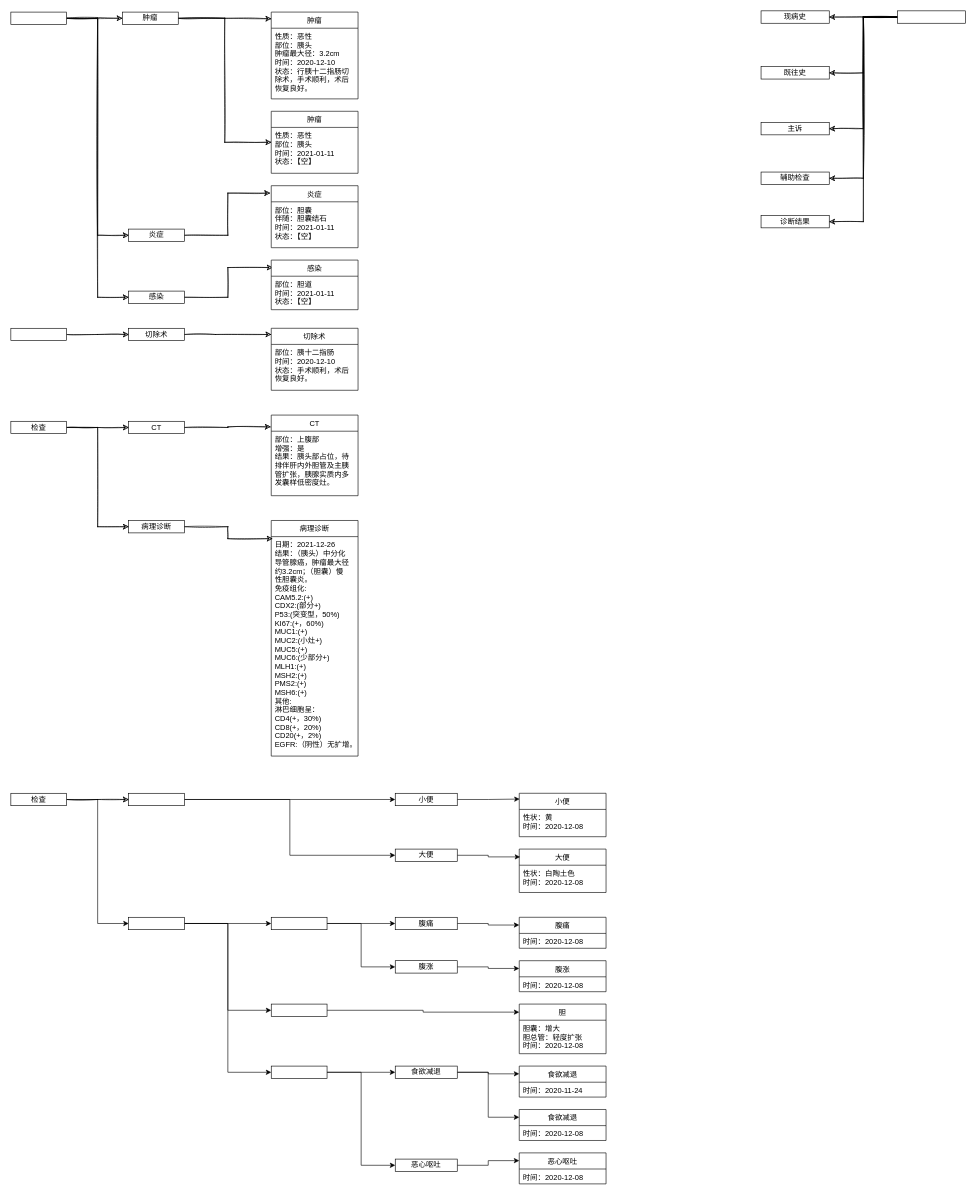
Some shapes in this 977 by 1197 pixel diagram are drawn without their labels. The centre of each missing label's shape, as x and y in pixels:
"患者A" belongs at pixel 931 16.
"手术" belongs at pixel 38 334.
"排泄物" belongs at pixel 156 799.
"消化道症状" belongs at pixel 299 1071.
"疾病" belongs at pixel 38 17.
"胆症状" belongs at pixel 299 1009.
"腹部综合" belongs at pixel 299 923.
"躯干症状" belongs at pixel 156 923.
